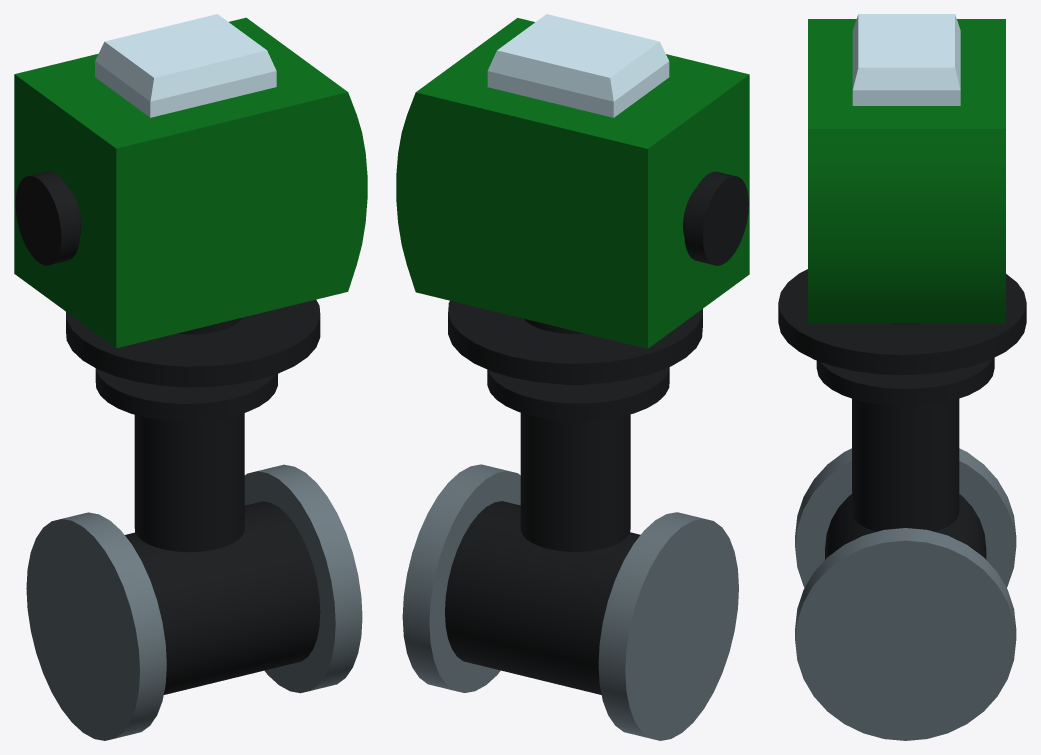
The picture shows the model from 3 angles, left to right: view 1: azimuth 30°, elevation 25°; view 2: azimuth 150°, elevation 25°; view 3: azimuth 270°, elevation 25°; orthographic projection. The views are drawn at different scales.
Visible parts, largest first — view 1: 立方体.238, 柱体.055, 柱体.054, 柱体.057, 立方体.129, 柱体.053, 柱体.056; view 2: 立方体.238, 柱体.055, 柱体.054, 柱体.057, 立方体.129, 柱体.053, 柱体.056; view 3: 立方体.238, 柱体.053, 柱体.057, 柱体.055, 立方体.129, 柱体.054.
Boxes of the visible parts, x1,y1,x2,y2 form: 立方体.238: [14, 17, 367, 348]; 柱体.055: [125, 413, 320, 694]; 柱体.054: [26, 512, 166, 740]; 柱体.057: [66, 299, 320, 421]; 立方体.129: [95, 14, 276, 117]; 柱体.053: [244, 464, 362, 693]; 柱体.056: [15, 171, 79, 265]; 立方体.238: [396, 18, 749, 348]; 柱体.055: [445, 412, 640, 694]; 柱体.054: [598, 512, 738, 740]; 柱体.057: [448, 300, 702, 421]; 立方体.129: [487, 14, 669, 117]; 柱体.053: [402, 464, 520, 692]; 柱体.056: [684, 171, 748, 265]; 立方体.238: [808, 19, 1005, 323]; 柱体.053: [795, 528, 1016, 740]; 柱体.057: [778, 269, 1026, 406]; 柱体.055: [825, 398, 986, 559]; 立方体.129: [852, 14, 960, 105]; 柱体.054: [795, 448, 1016, 587].
Size of the model in its own units: 8.31 by 18.88 by 6.6.
